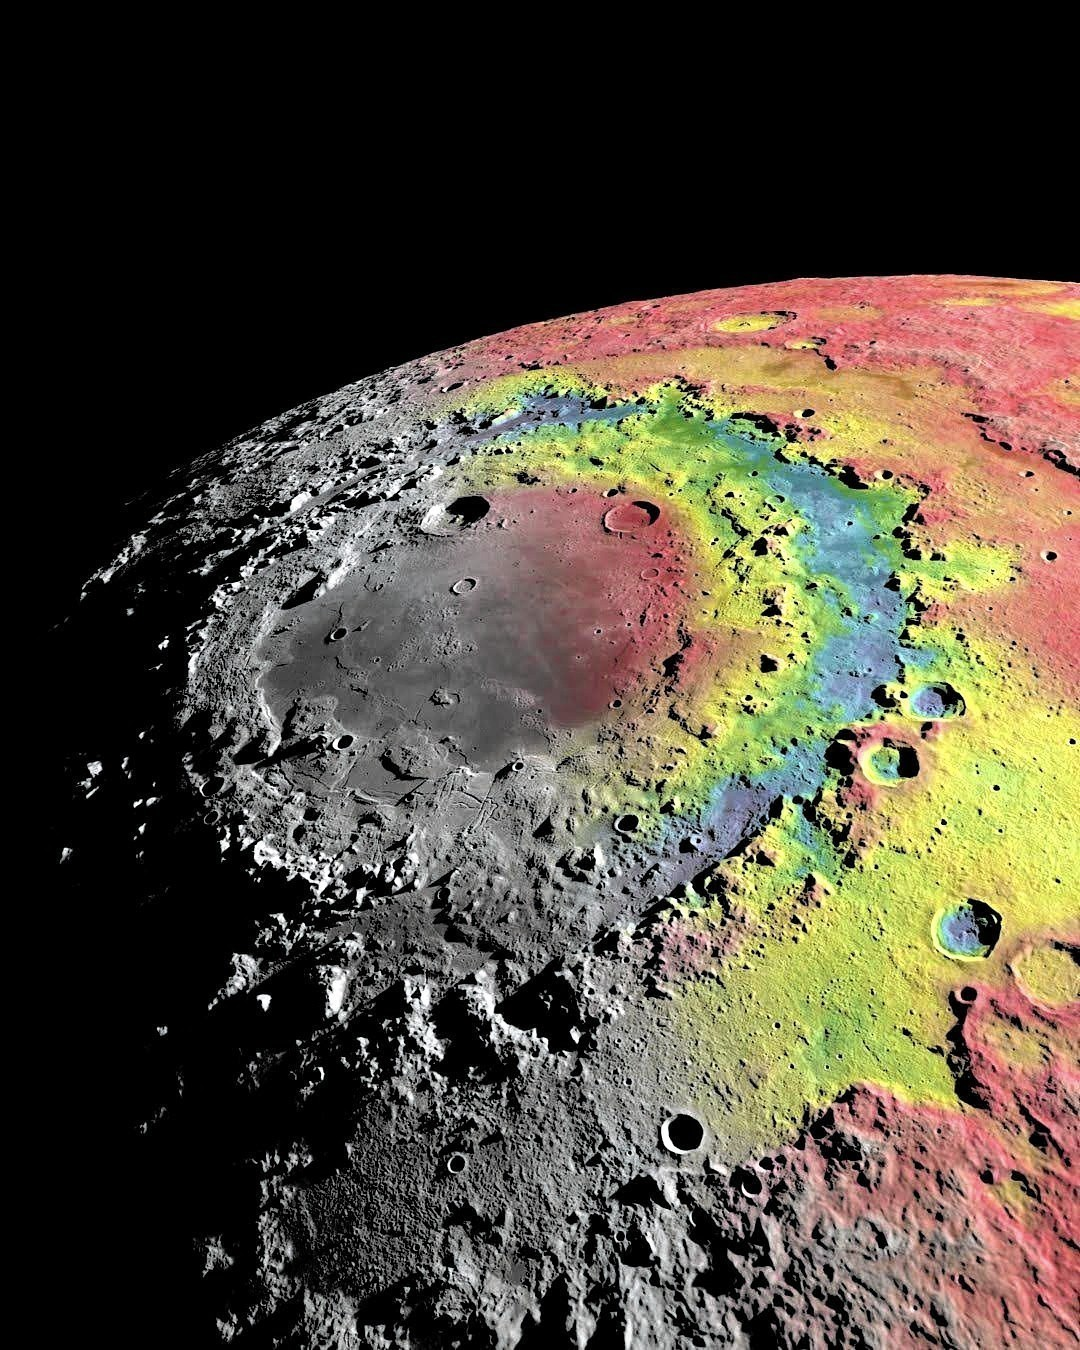crater: (404, 1113, 510, 1190), (901, 887, 1004, 966), (391, 487, 519, 548), (661, 299, 835, 336), (914, 970, 1018, 1030), (1019, 519, 1074, 633), (637, 1099, 730, 1163), (585, 494, 674, 546), (430, 562, 503, 611)
